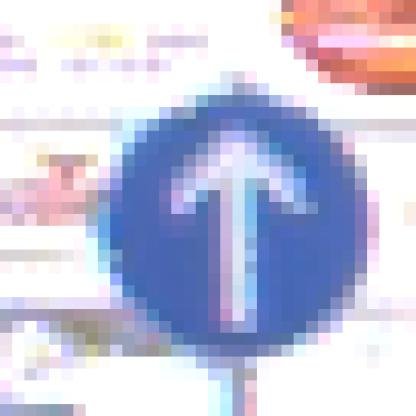AheadOnly: (74, 72, 356, 358)
